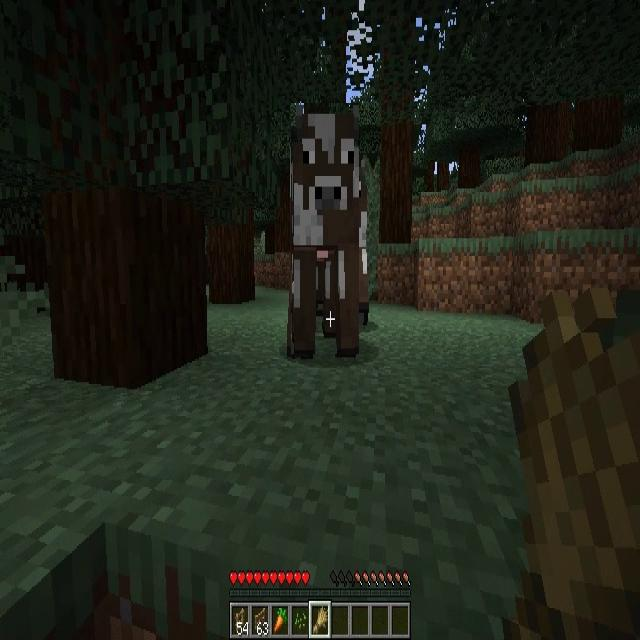cow: (291, 103, 359, 354)
